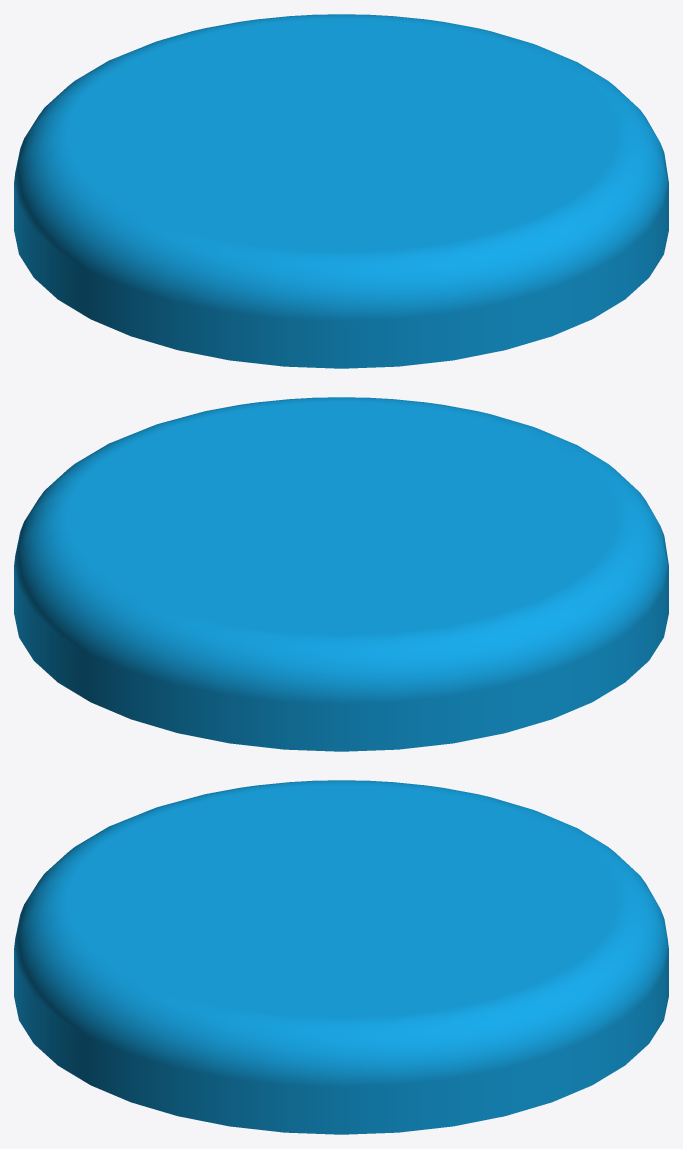
File: Bases Papel-base_25.glb
3 views of the same model, one above another, from view 1: azimuth 30°, elevation 25°; view 2: azimuth 150°, elevation 25°; view 3: azimuth 270°, elevation 25° (orthographic).
Parts seen in each view (by area): view 1: base_25; view 2: base_25; view 3: base_25.
Part boxes in pixels (x1=…): base_25: x1=14, y1=14, x2=668, y2=368; base_25: x1=14, y1=397, x2=668, y2=751; base_25: x1=14, y1=780, x2=668, y2=1134.
Bounding box in the file's own units: 0.025 × 0.004 × 0.025.
